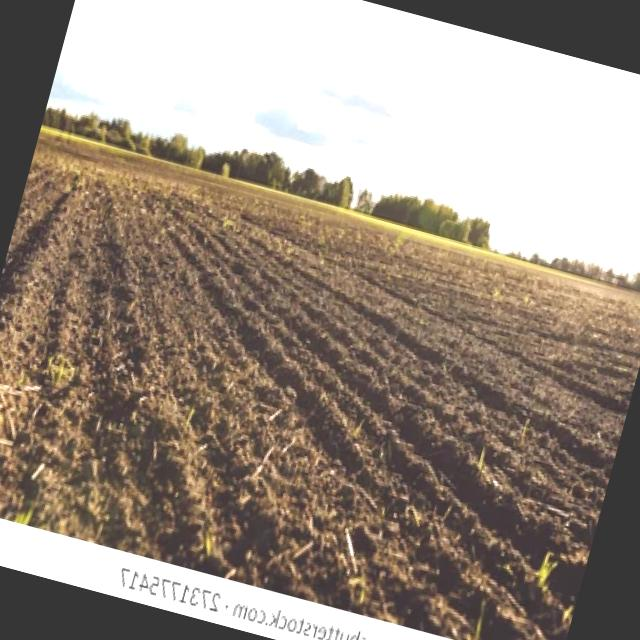suelo_humedo: (9, 147, 580, 612)
